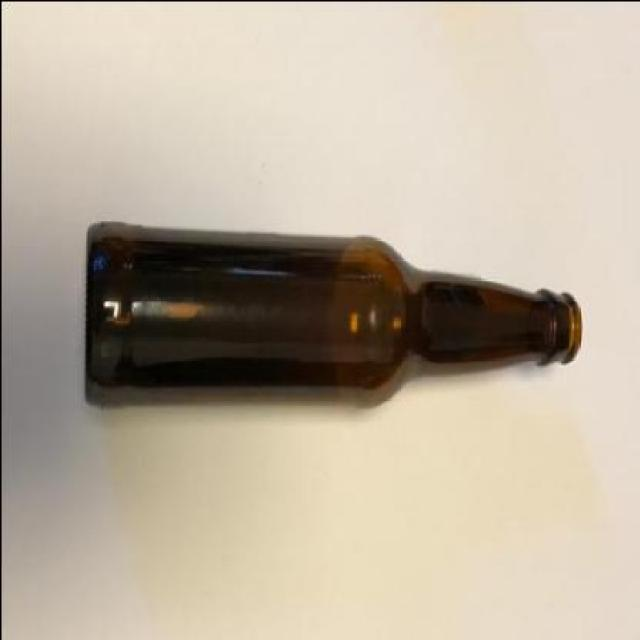glass: (85, 220, 583, 411)
